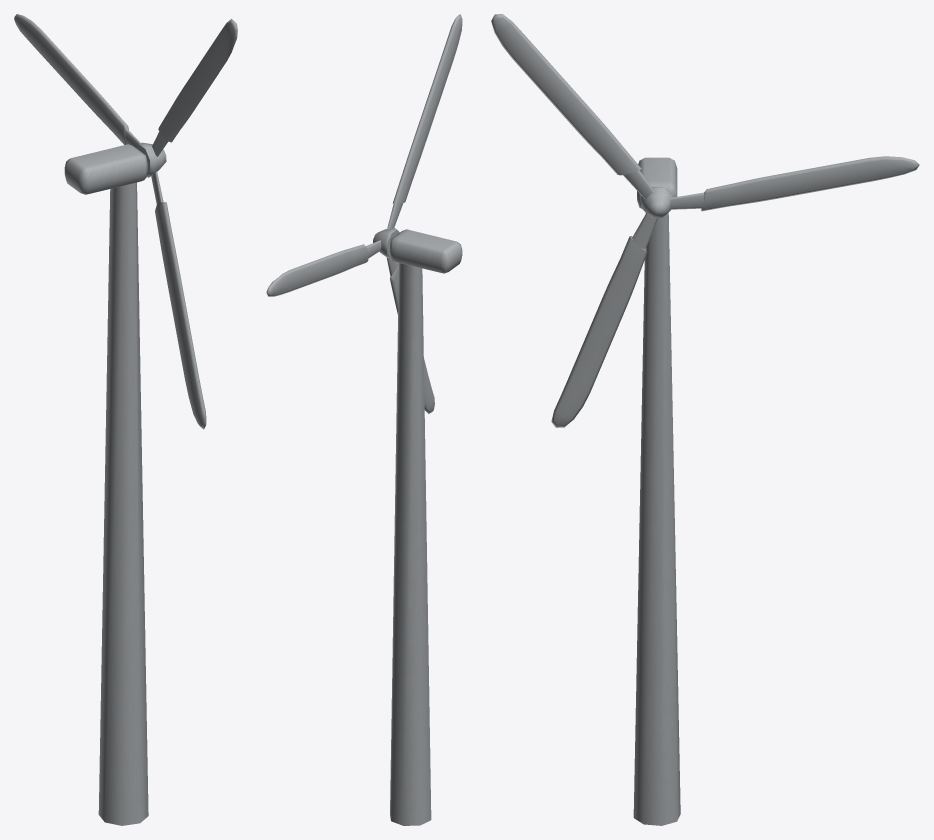
Rendered from wind-turbine_2.glb.
3 views of the same model, side by side, from view 1: azimuth 30°, elevation 25°; view 2: azimuth 150°, elevation 25°; view 3: azimuth 270°, elevation 25° (orthographic). The views are drawn at different scales.
Parts seen in each view (by area): view 1: turbinePole, turbineBlades; view 2: turbinePole, turbineBlades; view 3: turbinePole, turbineBlades.
Boxes of the visible parts, <box> form: turbinePole: <box>64,142,166,825</box>; turbineBlades: <box>14,14,237,429</box>; turbinePole: <box>373,228,462,825</box>; turbineBlades: <box>266,14,462,413</box>; turbinePole: <box>633,157,680,825</box>; turbineBlades: <box>491,14,919,427</box>.
Bounding box in the file's own units: 0.0299 × 0.2575 × 0.1227.
Materials: 1 (1 with a texture image).
